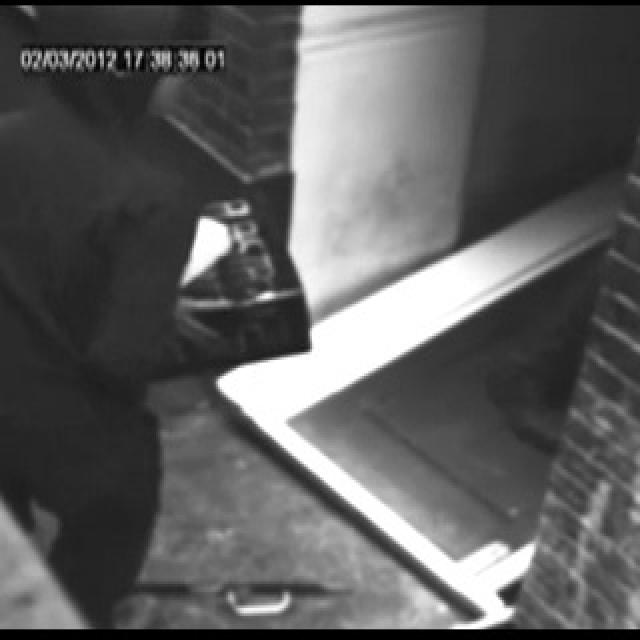thief: (16, 0, 224, 193)
